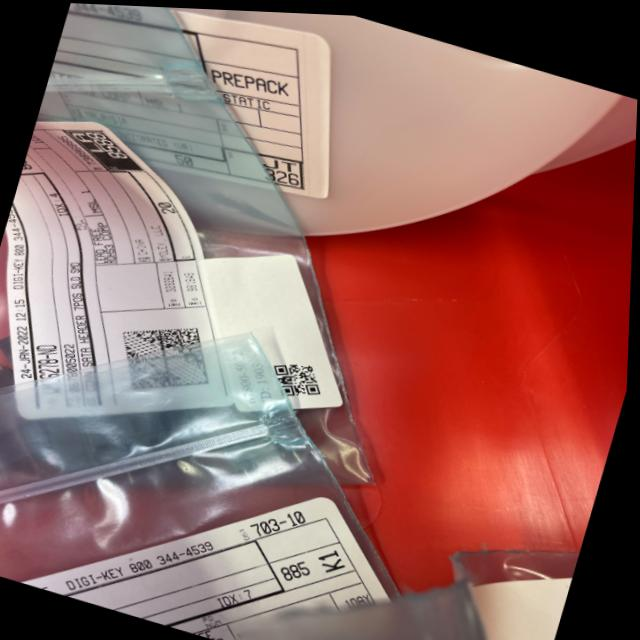datamatrix: (110, 302, 228, 409)
qrcode: (266, 348, 332, 405)
